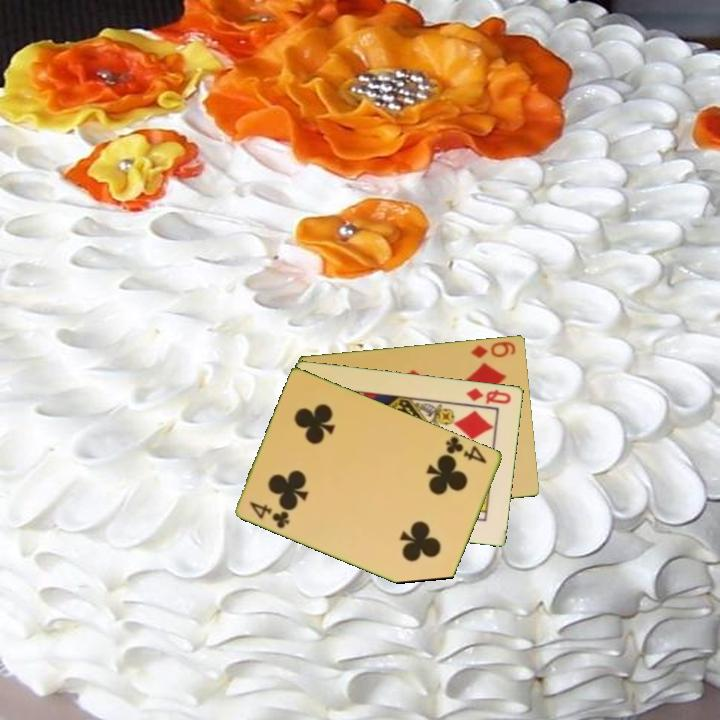4c: (441, 433, 490, 466), (246, 497, 293, 531)
6d: (467, 337, 519, 361)
Qd: (462, 384, 514, 407)
